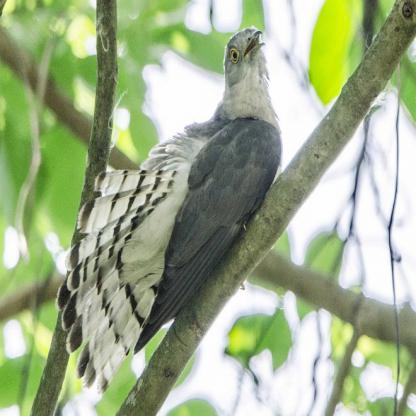Burung: (55, 26, 282, 397)
